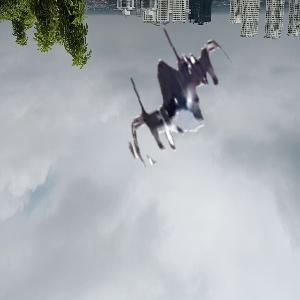drone: (105, 14, 242, 151)
